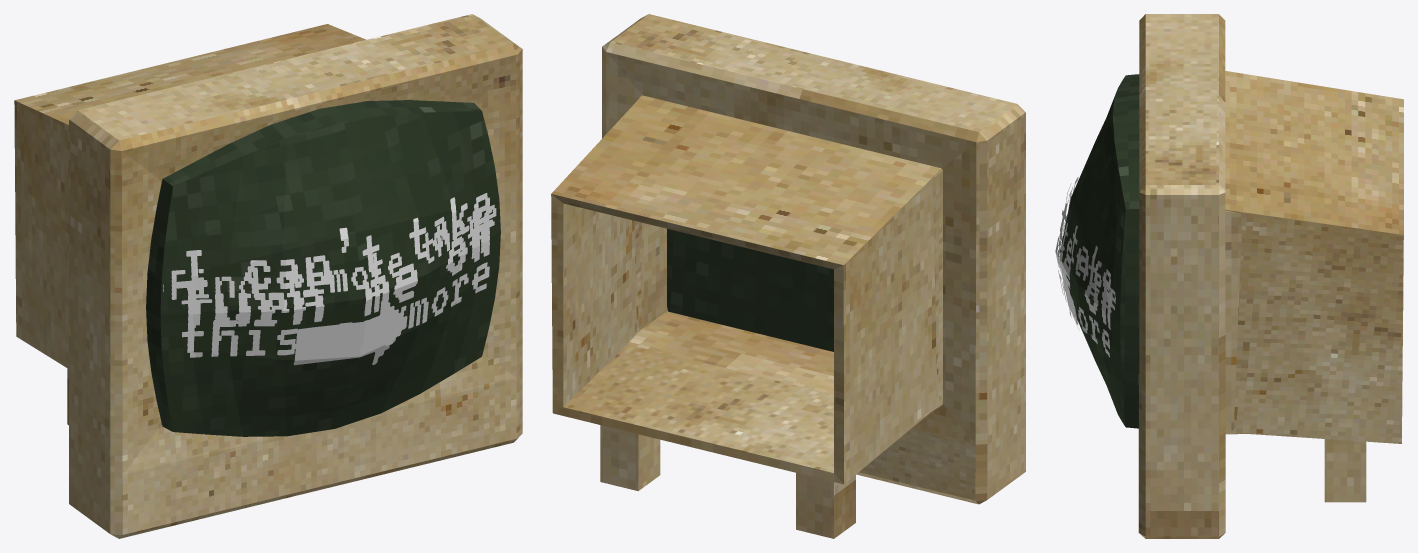
File: bigTV.fbx
3 views of the same model, side by side, from view 1: azimuth 30°, elevation 25°; view 2: azimuth 150°, elevation 25°; view 3: azimuth 270°, elevation 25° (orthographic). The views are drawn at different scales.
Parts seen in each view (by area): view 1: TV, screen; view 2: TV, screen; view 3: TV, screen.
Part boxes in pixels (left/top/right/bottom): TV: left=14, top=14, right=522, bottom=538; screen: left=146, top=100, right=500, bottom=436; TV: left=551, top=14, right=1025, bottom=538; screen: left=667, top=229, right=833, bottom=351; TV: left=1055, top=14, right=1403, bottom=538; screen: left=1060, top=74, right=1139, bottom=428.
Bounding box in the file's own units: 2079 × 1921 × 1720.
